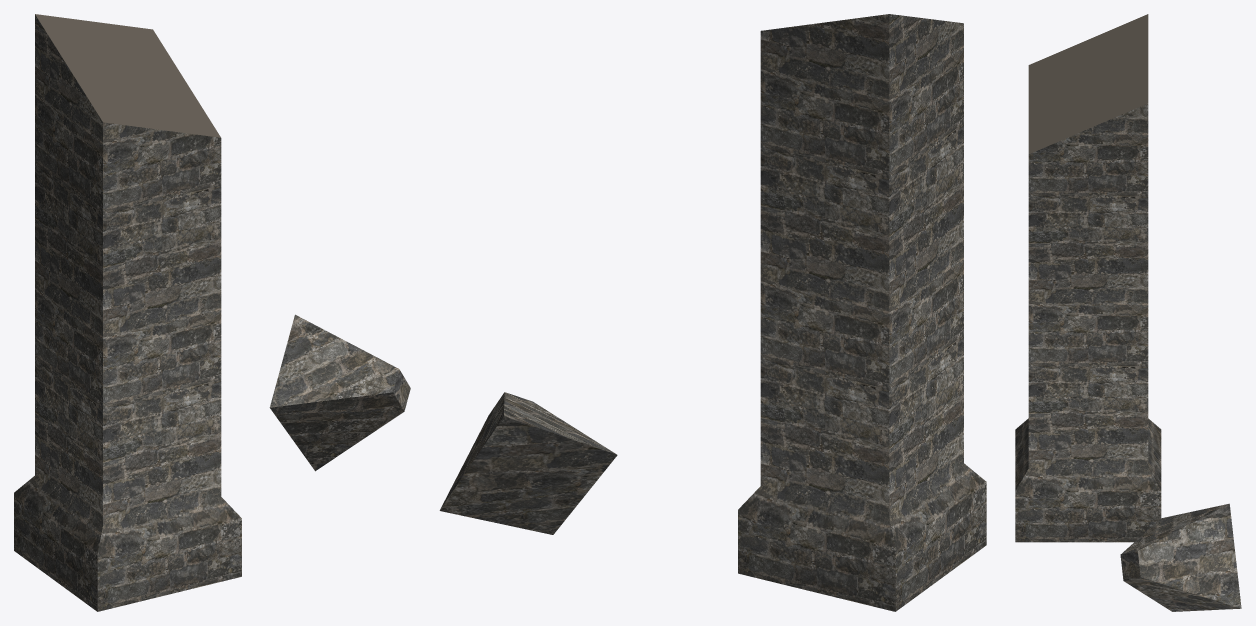
The model's file is obelisk-fragment-v01.glb.
3 views of the same model, side by side, from view 1: azimuth 30°, elevation 25°; view 2: azimuth 150°, elevation 25°; view 3: azimuth 270°, elevation 25° (orthographic). The views are drawn at different scales.
Visible parts, largest first — view 1: obelisk-fragment; view 2: obelisk-fragment; view 3: obelisk-fragment.
Part boxes in pixels (left/top/right/bottom): obelisk-fragment: left=14, top=14, right=410, bottom=611; obelisk-fragment: left=439, top=14, right=986, bottom=611; obelisk-fragment: left=1015, top=14, right=1241, bottom=611.
Size of the model in its own units: 2.07 by 2.77 by 1.2.
Materials: 1 (1 with a texture image).
